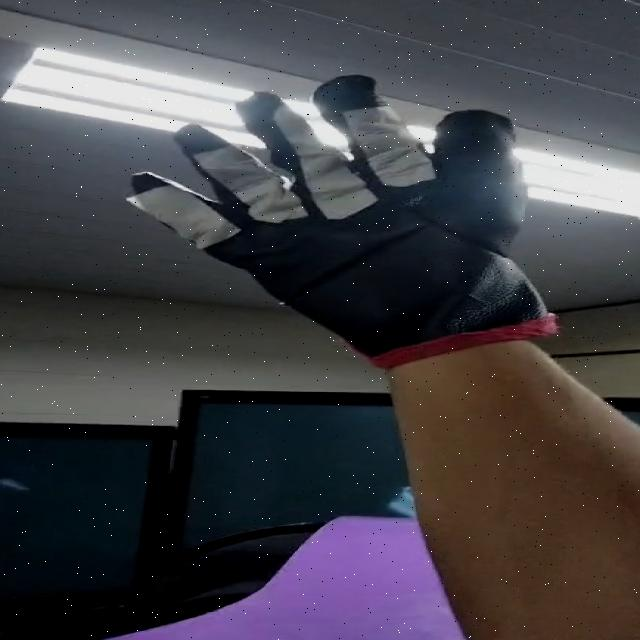Gloves: (125, 72, 556, 350)
